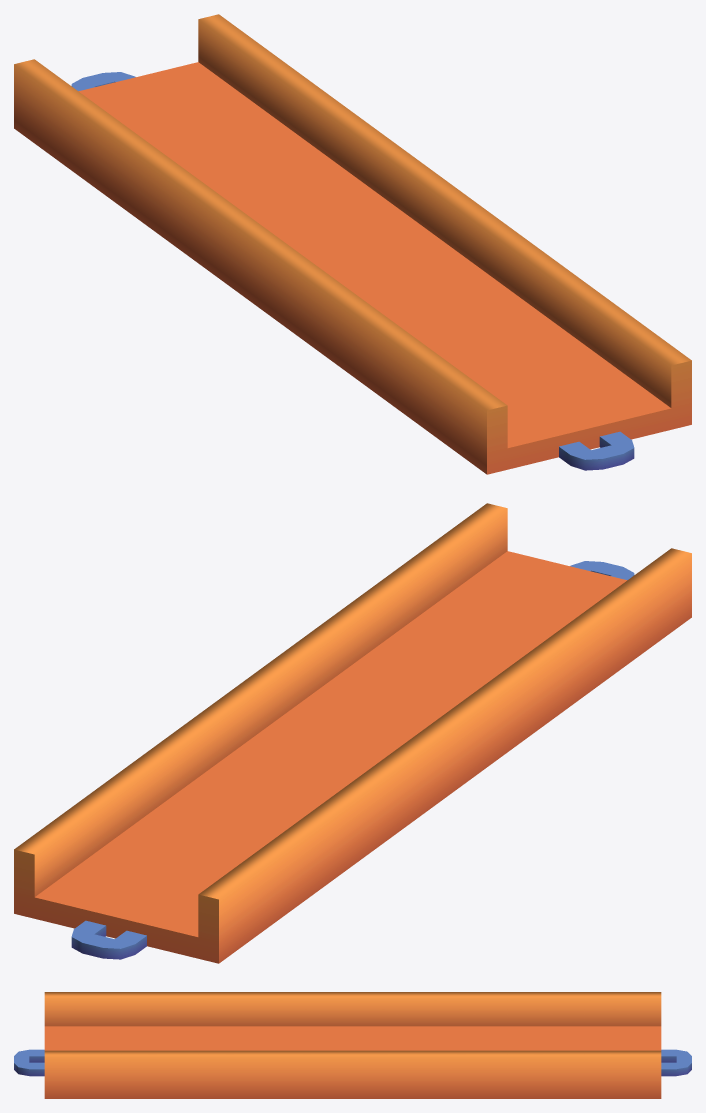
File: track-narrow-straight.glb
The picture shows the model from 3 angles, top to bottom: view 1: azimuth 30°, elevation 25°; view 2: azimuth 150°, elevation 25°; view 3: azimuth 270°, elevation 25°; orthographic projection. The views are drawn at different scales.
Parts seen in each view (by area): view 1: track-narrow-straight; view 2: track-narrow-straight; view 3: track-narrow-straight.
Part boxes in pixels (box(x1,y1,x2,y2)): track-narrow-straight: box(14, 14, 691, 474); track-narrow-straight: box(14, 503, 691, 963); track-narrow-straight: box(14, 992, 691, 1098).
Bounding box in the file's own units: 1 × 0.2997 × 4.4.
1 material, 1 textured.
